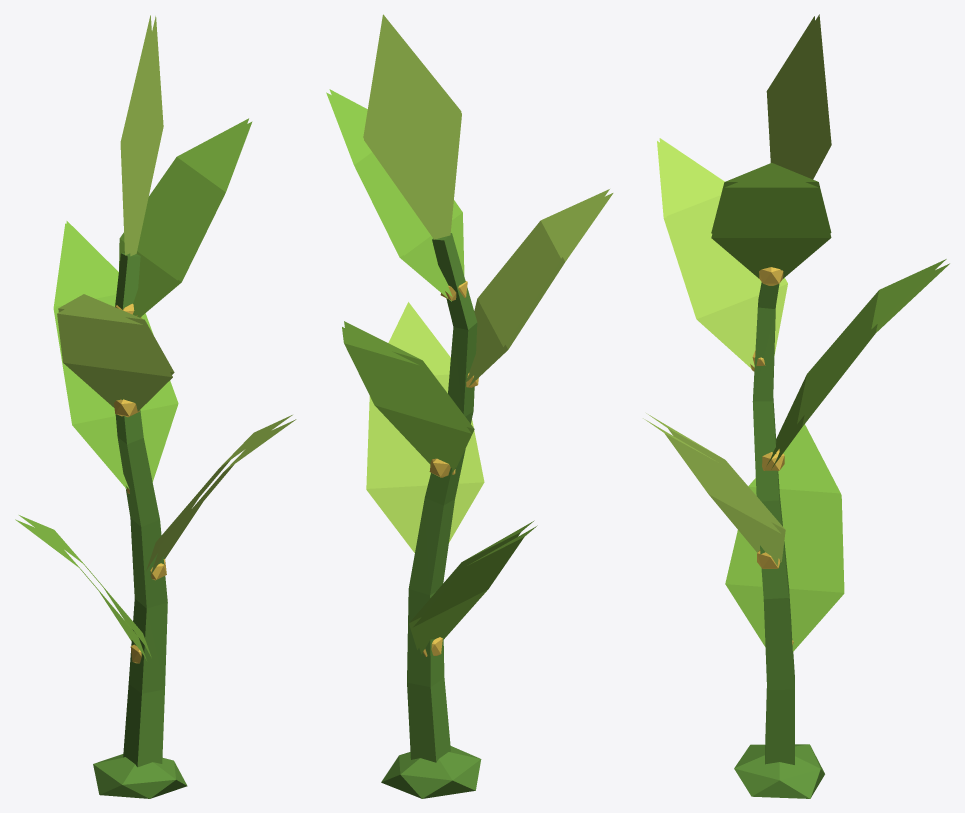
Rendered from kelp_short.fbx.
3 views of the same model, side by side, from view 1: azimuth 30°, elevation 25°; view 2: azimuth 150°, elevation 25°; view 3: azimuth 270°, elevation 25° (orthographic). The views are drawn at different scales.
Parts seen in each view (by area): view 1: kelp_short; view 2: kelp_short; view 3: kelp_short.
Part boxes in pixels (left/top/right/bottom): kelp_short: left=15, top=15, right=296, bottom=798; kelp_short: left=326, top=14, right=613, bottom=798; kelp_short: left=643, top=14, right=949, bottom=798.
Bounding box in the file's own units: 630 × 2040 × 720.
1 material, 1 textured.
